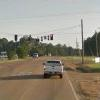Car: (36, 54, 69, 87)
